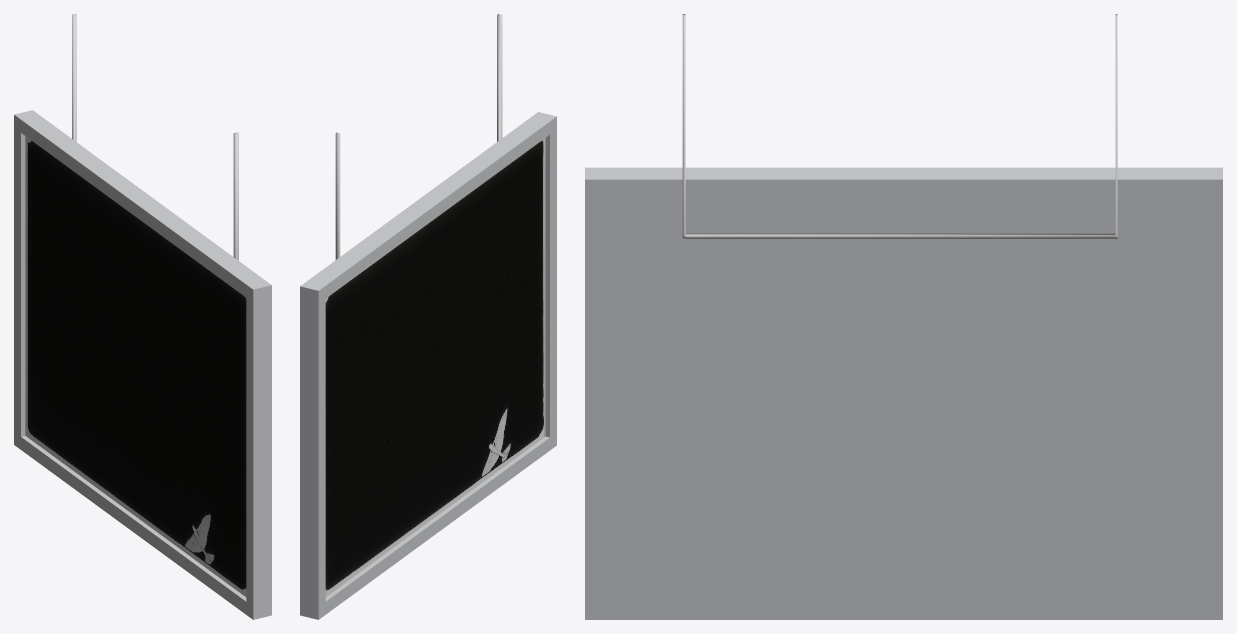
3 views of the same model, side by side, from view 1: azimuth 30°, elevation 25°; view 2: azimuth 150°, elevation 25°; view 3: azimuth 270°, elevation 25° (orthographic). The views are drawn at different scales.
Visible parts, largest first — view 1: F0144300; view 2: F0144300; view 3: F0144300.
Part boxes in pixels (<box>): F0144300: <box>14,14,271,619</box>; F0144300: <box>300,14,556,619</box>; F0144300: <box>585,14,1222,619</box>.
Bounding box in the file's own units: 0.1894 × 3.69 × 3.52.
2 materials, 1 textured.
